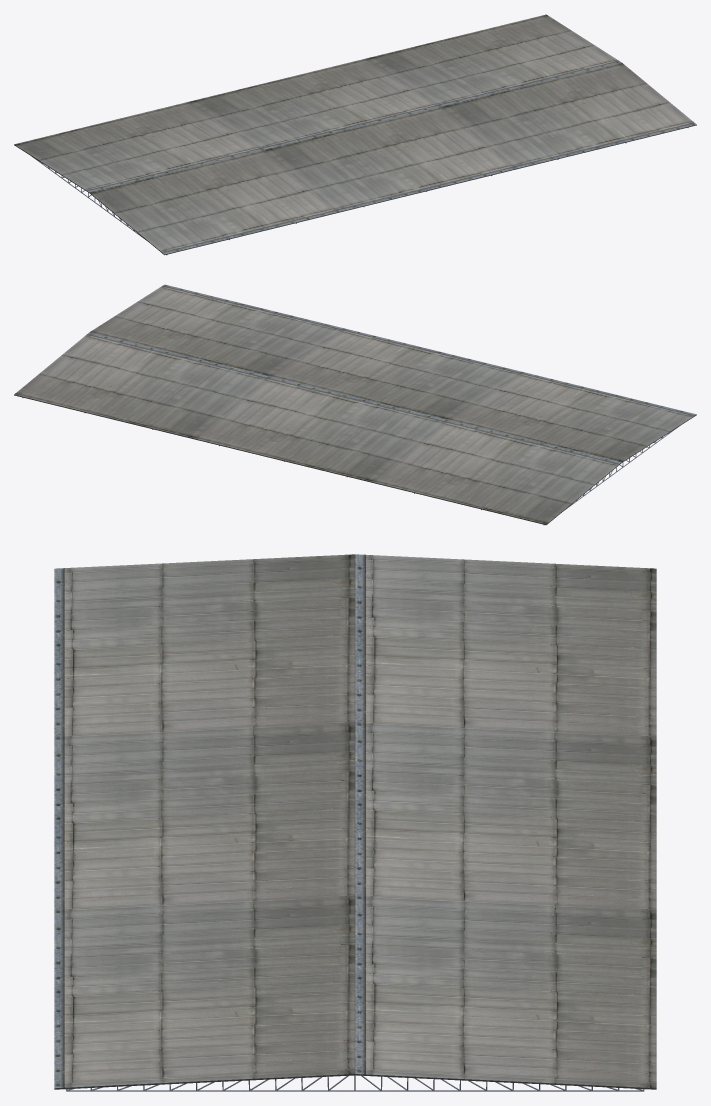
File: WareBig_Roof-transformed.glb
3 views of the same model, one above another, from view 1: azimuth 30°, elevation 25°; view 2: azimuth 150°, elevation 25°; view 3: azimuth 270°, elevation 25° (orthographic). The views are drawn at different scales.
Visible parts, largest first — view 1: WareBig_Roof, WareBig_Metal; view 2: WareBig_Roof, WareBig_Metal; view 3: WareBig_Roof, WareBig_Detail, WareBig_Metal.
Boxes of the visible parts, x1,y1,x2,y2 form: WareBig_Roof: (14,14,696,254); WareBig_Metal: (14,124,696,255); WareBig_Roof: (14,284,696,524); WareBig_Metal: (14,394,696,525); WareBig_Roof: (54,554,656,1088); WareBig_Detail: (66,1075,644,1091); WareBig_Metal: (54,1074,656,1089).
Size of the model in its own units: 77 by 2.68 by 37.7.
Materials: 4 (4 with a texture image).
